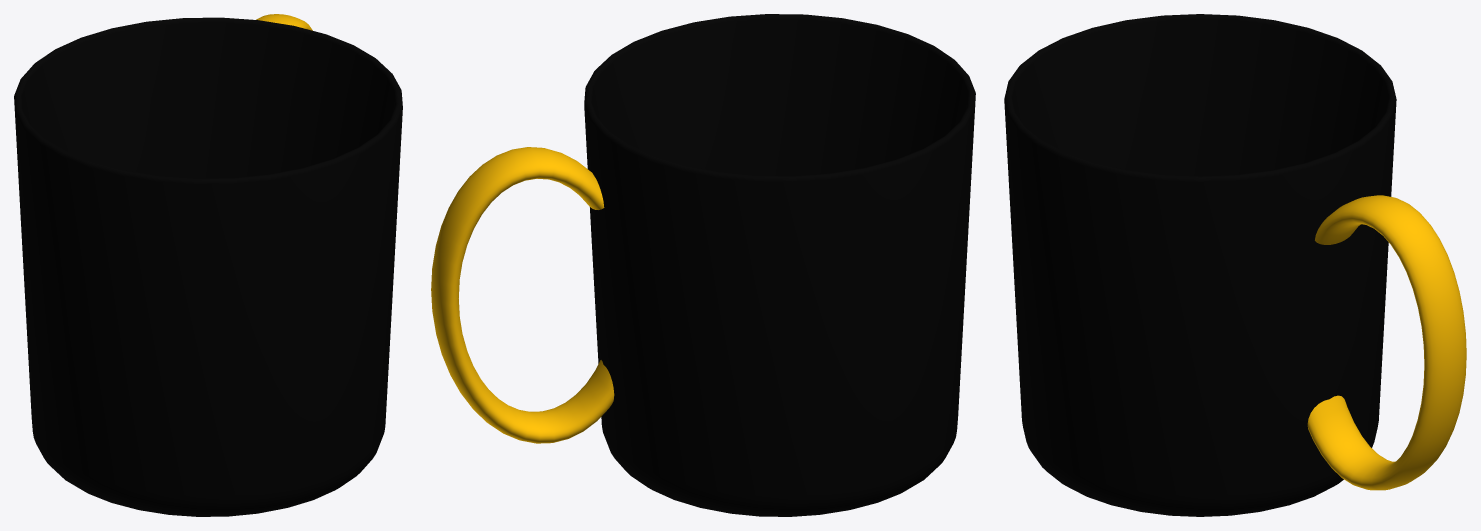
The model's file is mug_08_origin_gt_1.dae.
3 views of the same model, side by side, from view 1: azimuth 30°, elevation 25°; view 2: azimuth 150°, elevation 25°; view 3: azimuth 270°, elevation 25° (orthographic).
Visible parts, largest first — view 1: Copo, Alça; view 2: Copo, Alça; view 3: Copo, Alça.
Boxes of the visible parts, x1,y1,x2,y2 form: Copo: [14, 17, 402, 516]; Alça: [256, 14, 312, 30]; Copo: [584, 14, 975, 516]; Alça: [431, 147, 614, 443]; Copo: [1004, 14, 1396, 516]; Alça: [1307, 195, 1466, 490].
Size of the model in its own units: 4.18 by 4.18 by 3.58.
